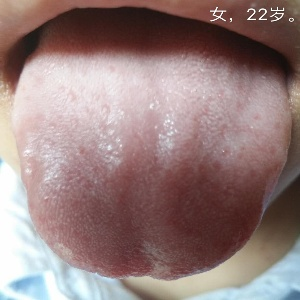st: (12, 58, 290, 281)
